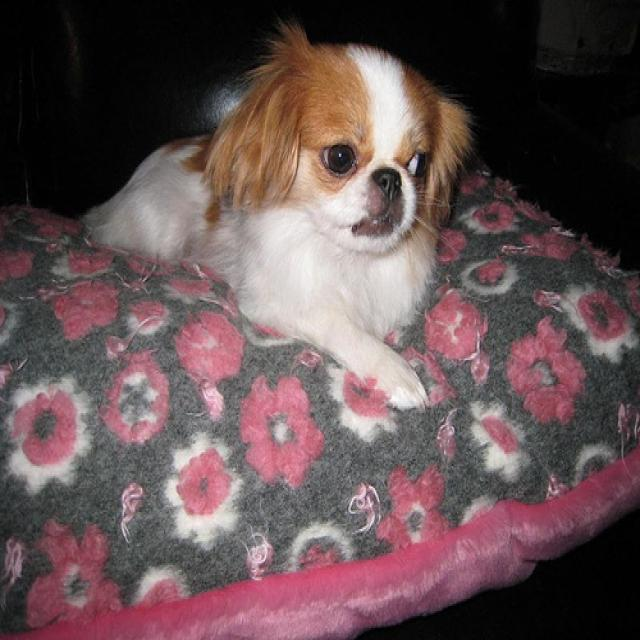dog-japanese_chin: (73, 10, 483, 423)
